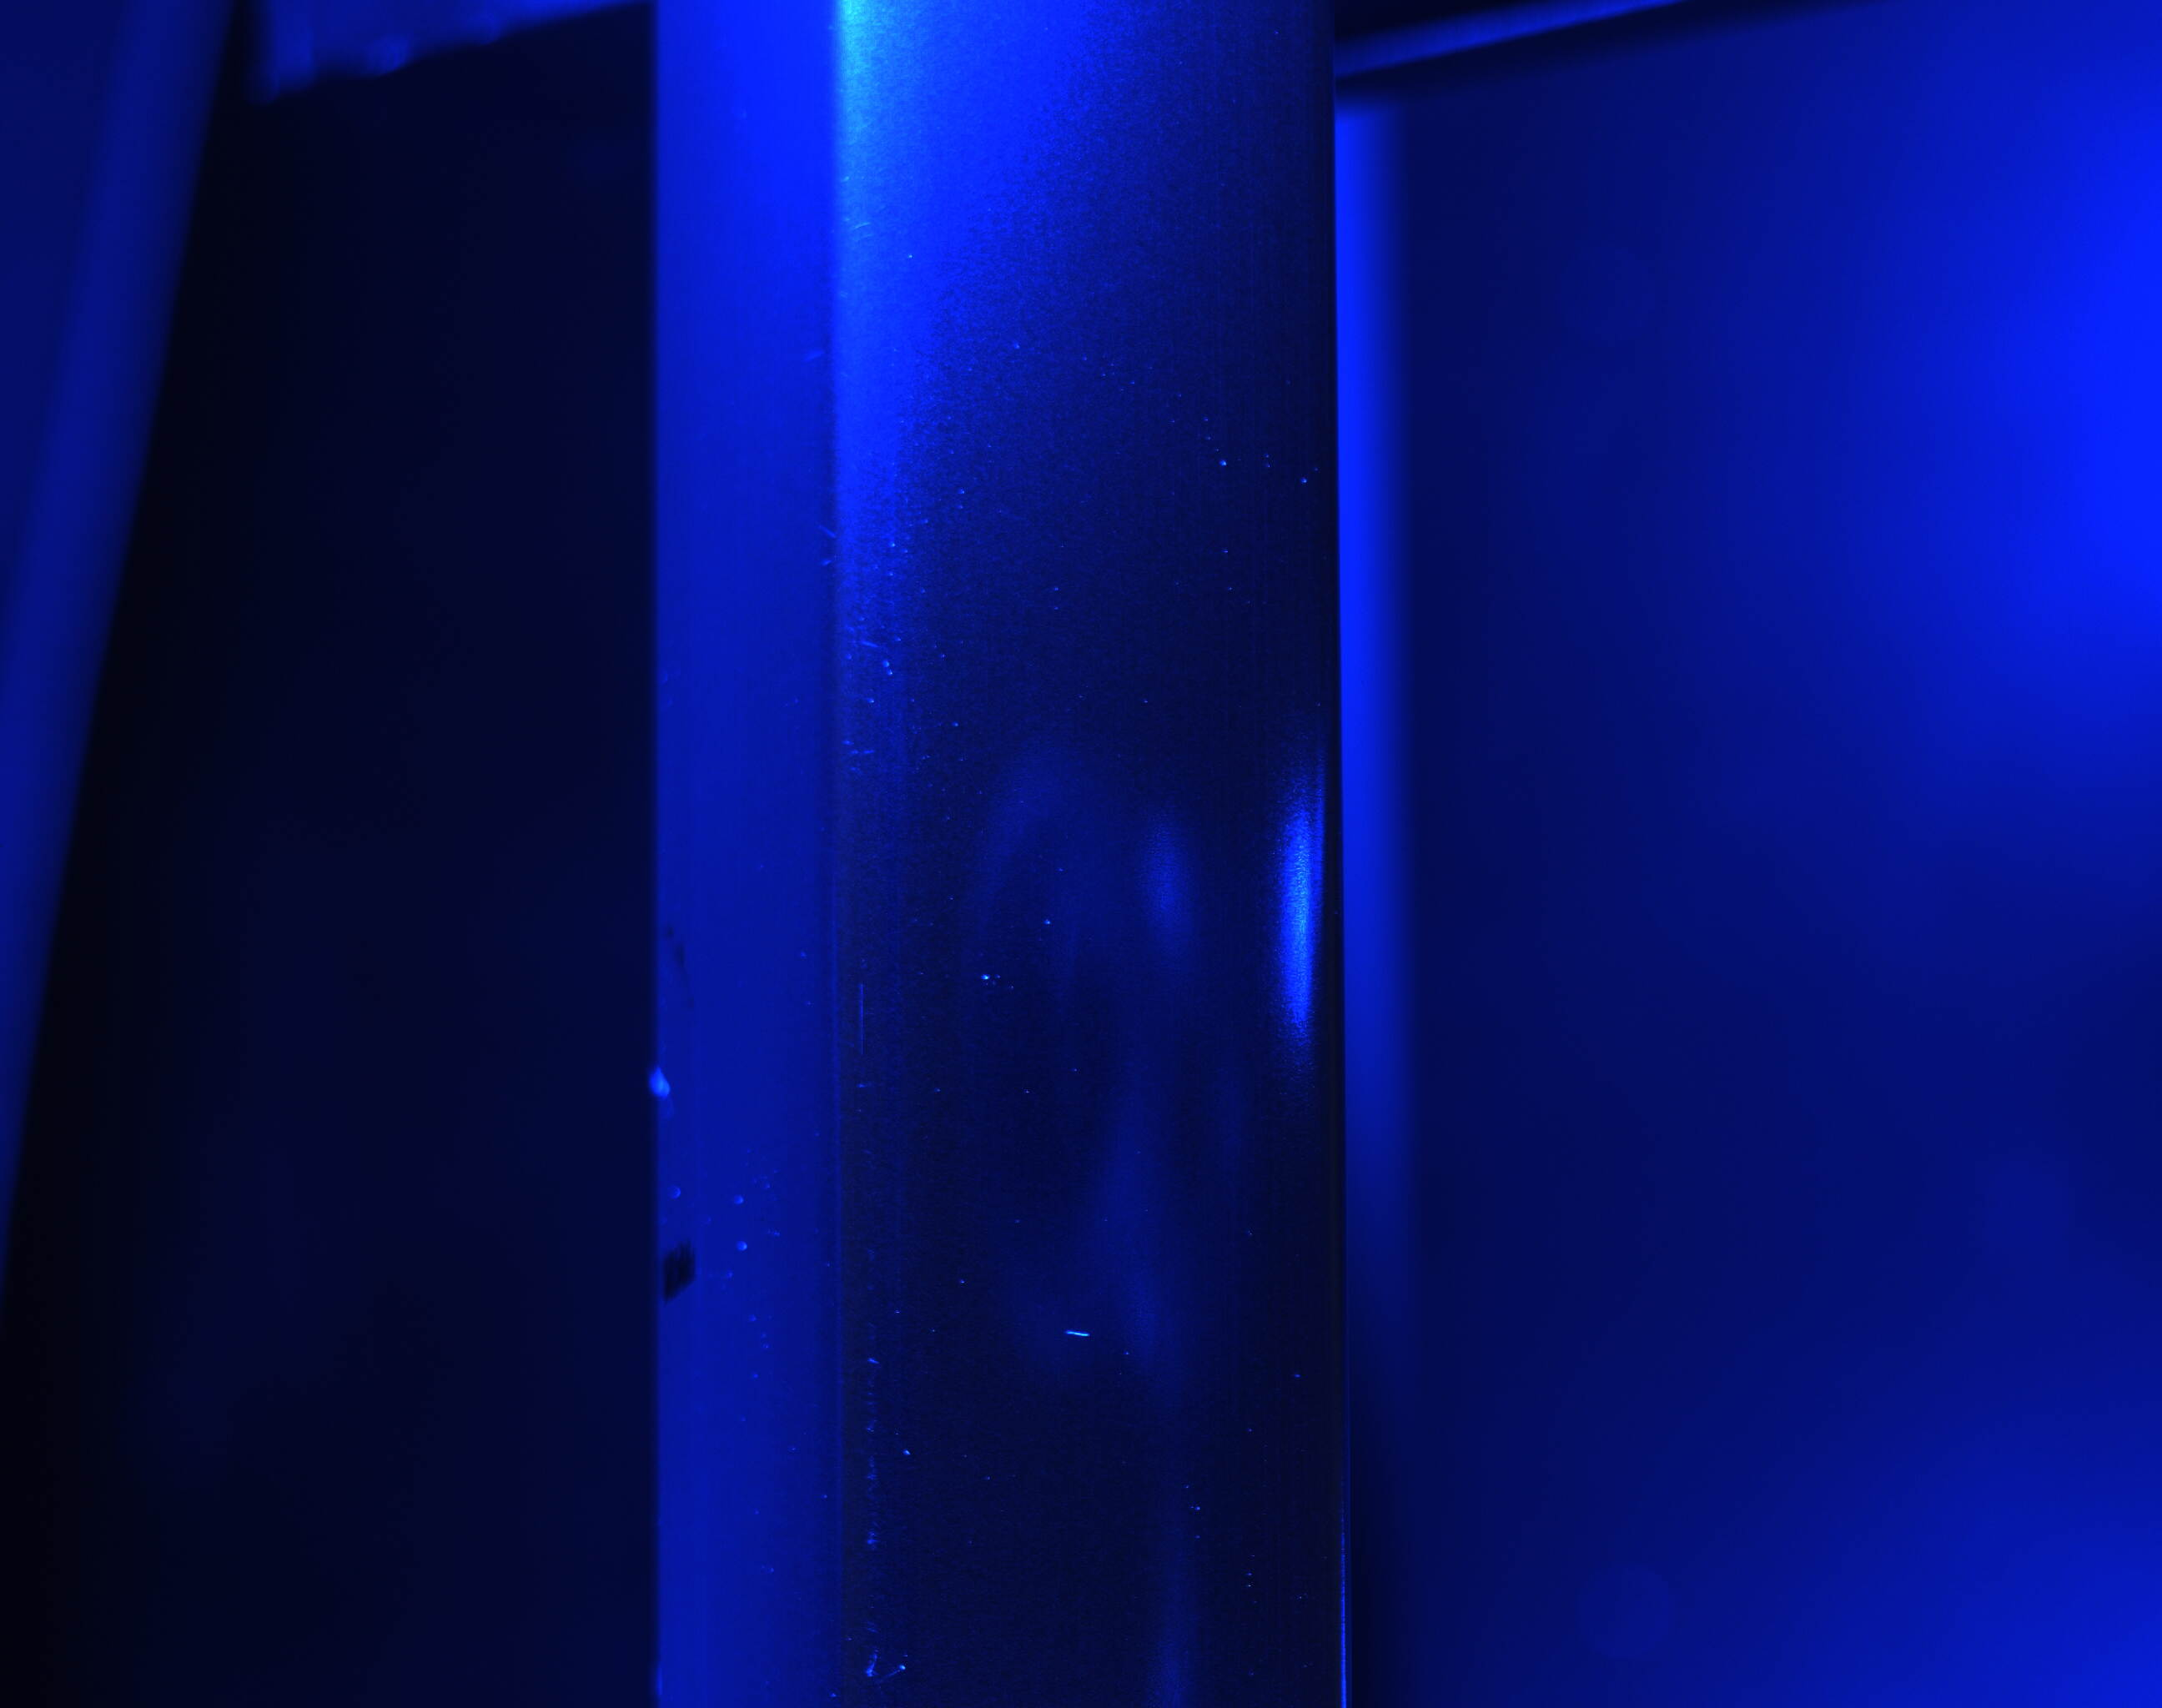NG: (1051, 1303, 1109, 1367)
